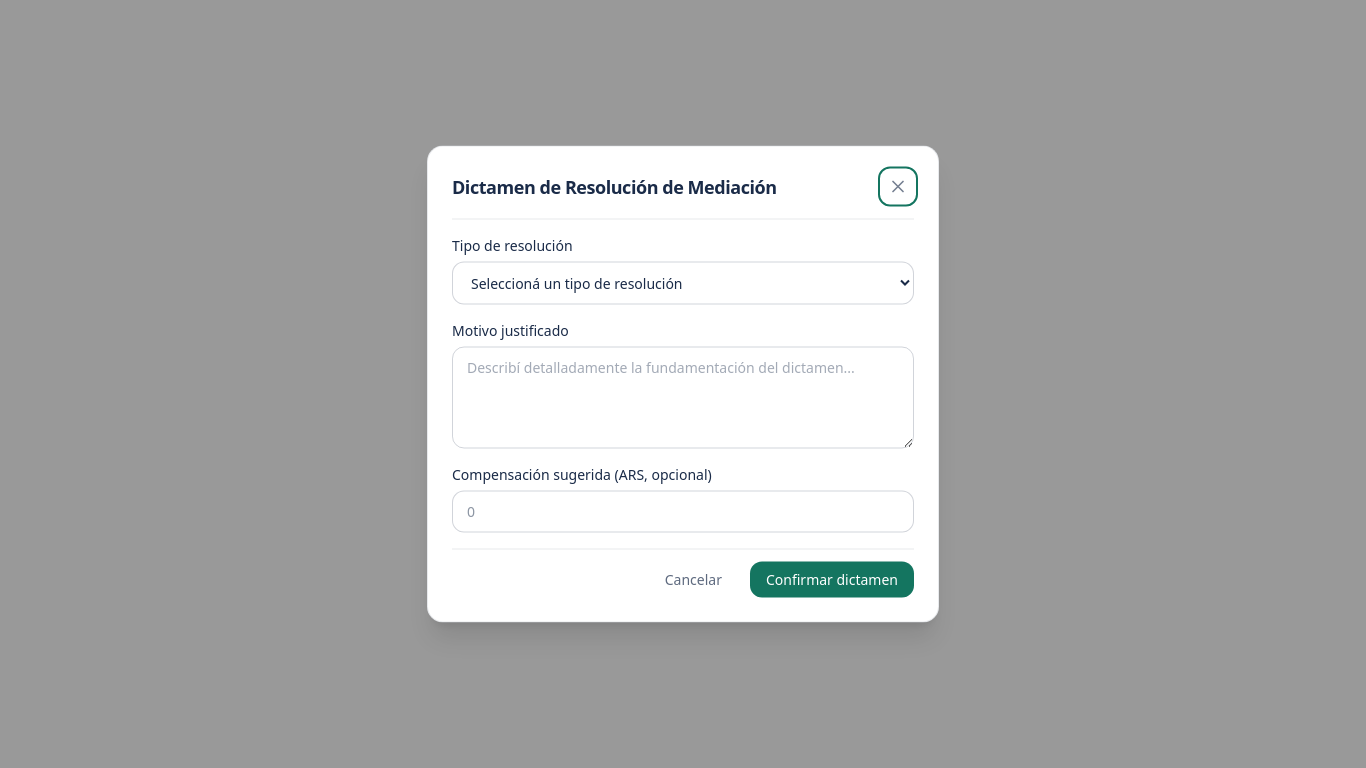
ClaimResolutionModal › rejects non-positive compensation amount -1
Select "A favor del cliente" in the dropdown labelled "Tipo de resolución" at [683, 283], box [452,262,914,304]
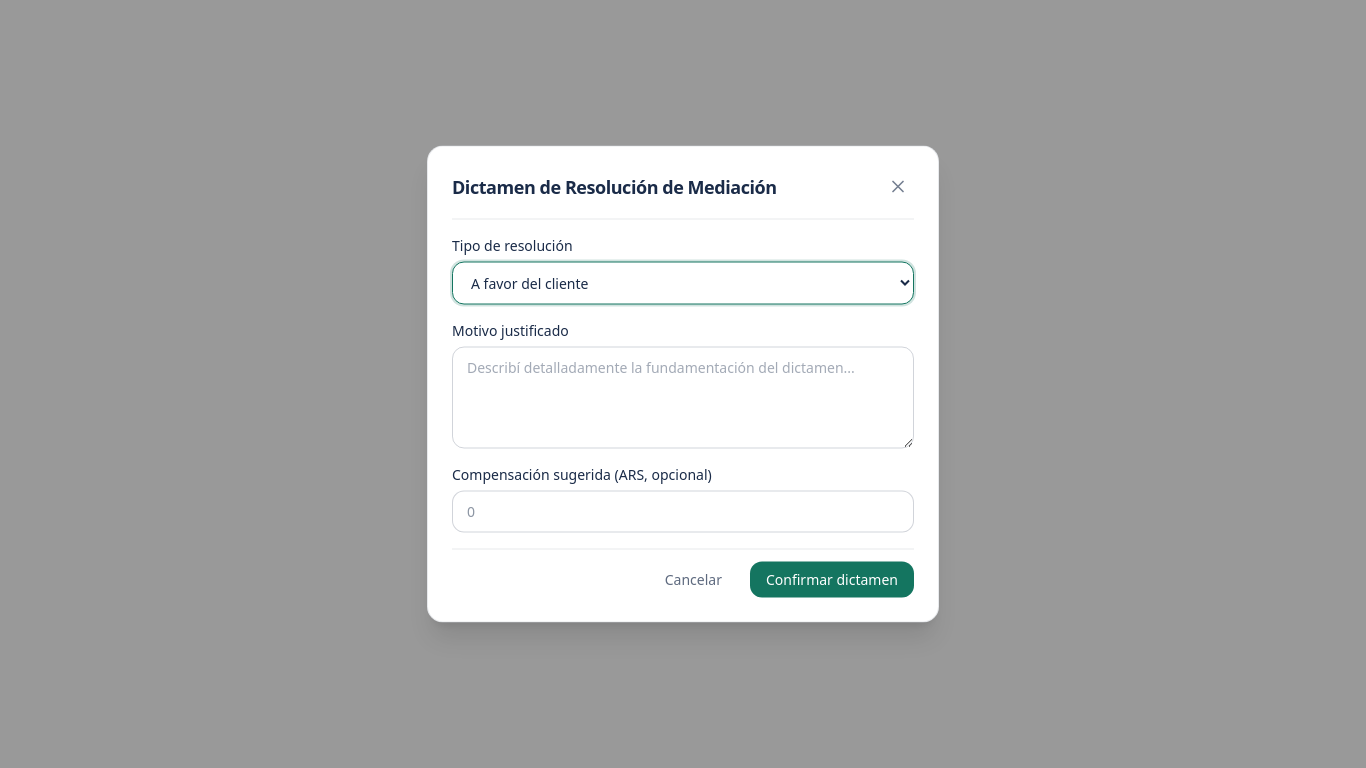
Type "Motivo válido" into the text box labelled "Motivo justificado" at [683, 398], box [452,346,914,448]
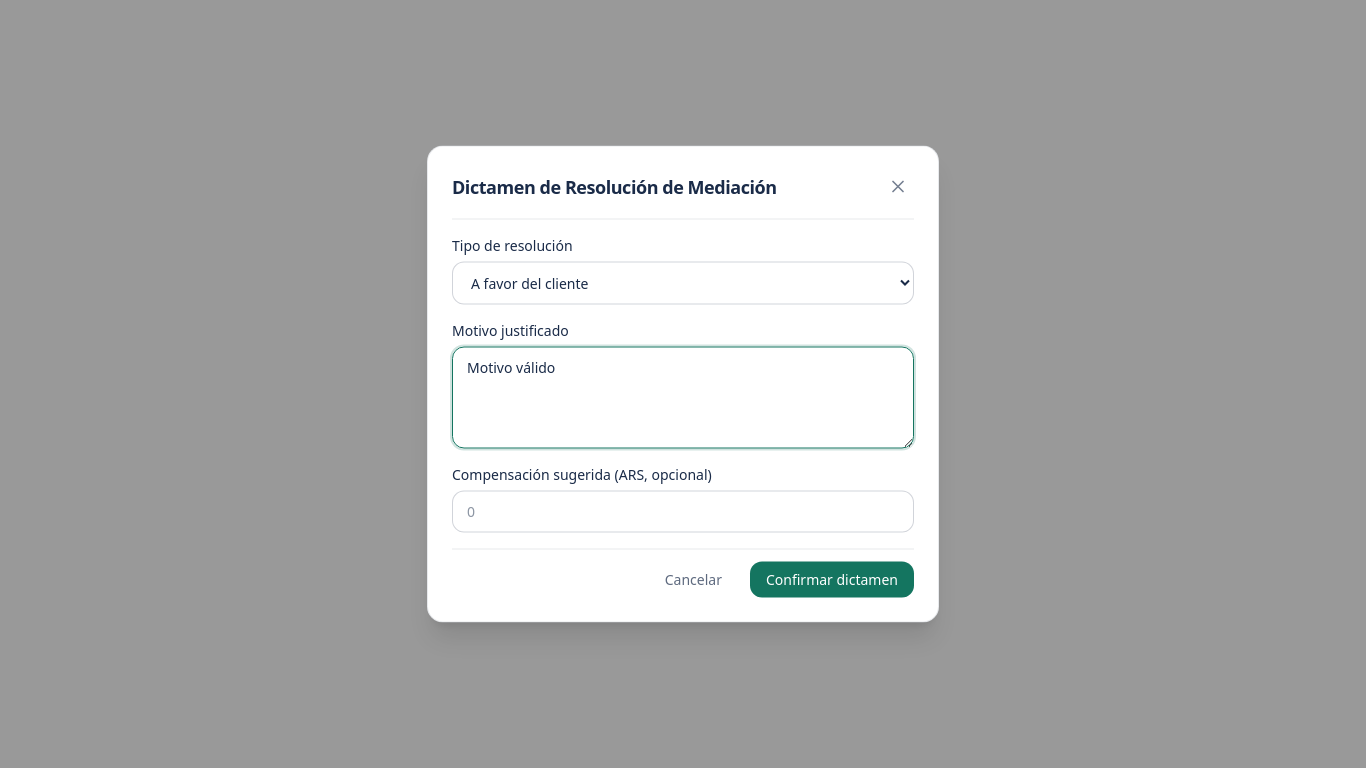
Type "-1" into the number field labelled "Compensación sugerida (ARS, opcional)" at [683, 512], box [452,490,914,532]
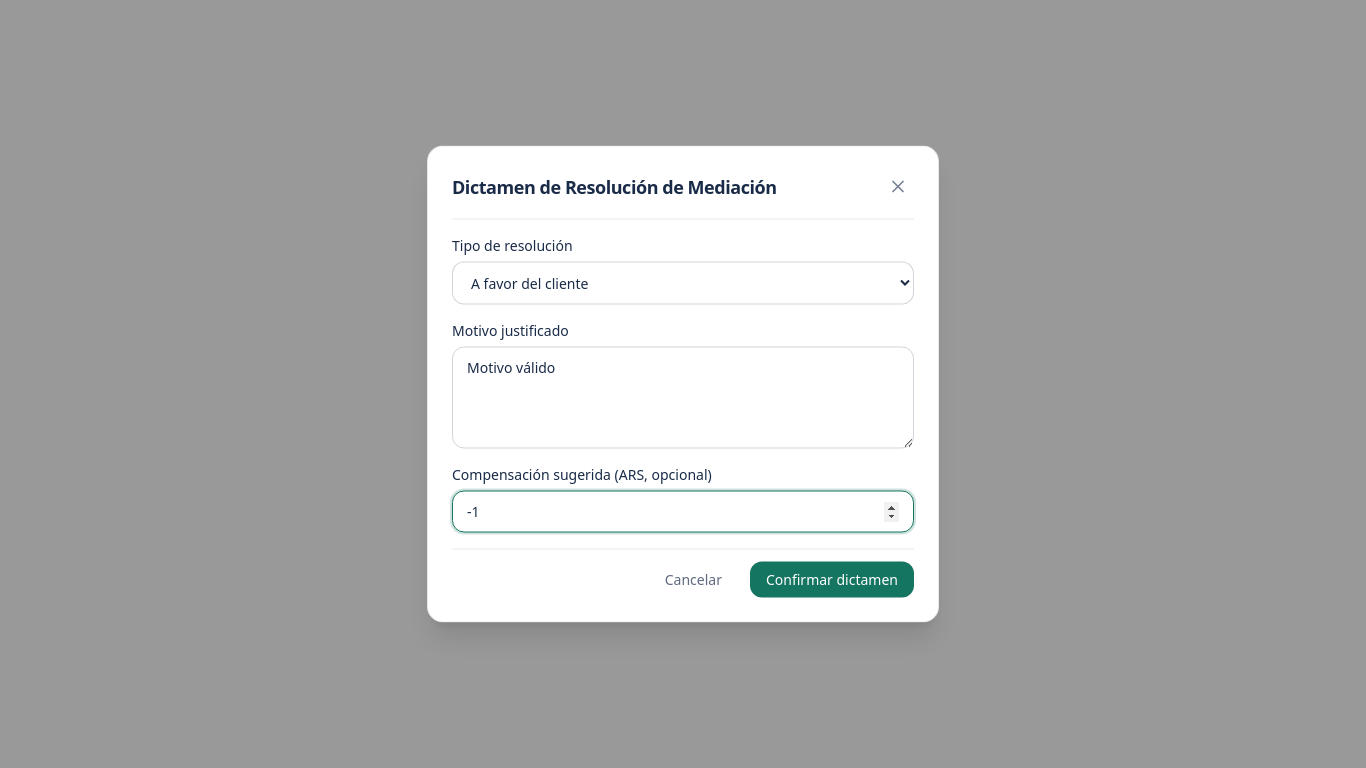
Click the button "Confirmar dictamen" at [832, 580], box [750,562,914,598]
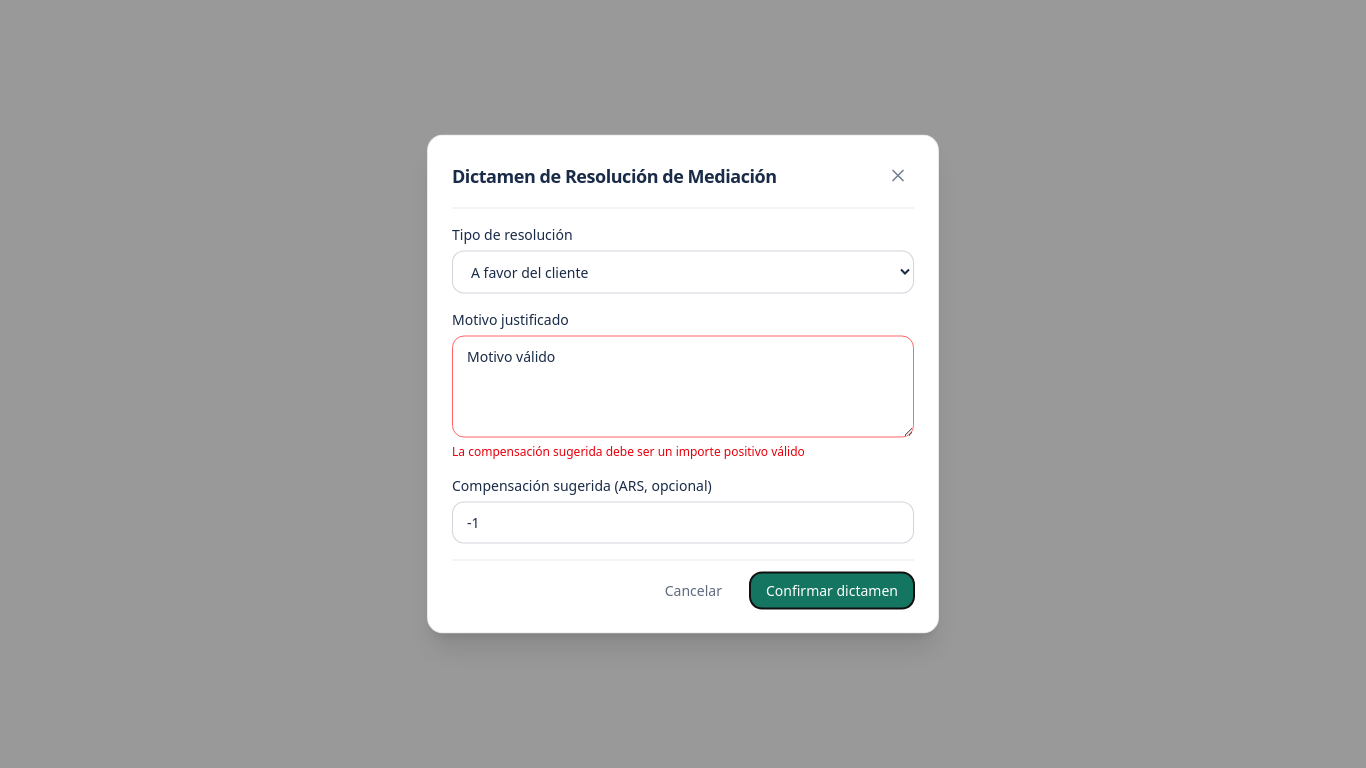
Expected: the message reads "La compensación sugerida debe ser un importe positivo válido", [452,442,805,460]
